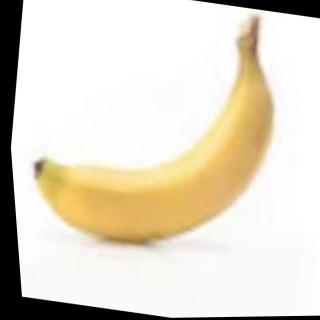banana: (10, 40, 290, 268)
